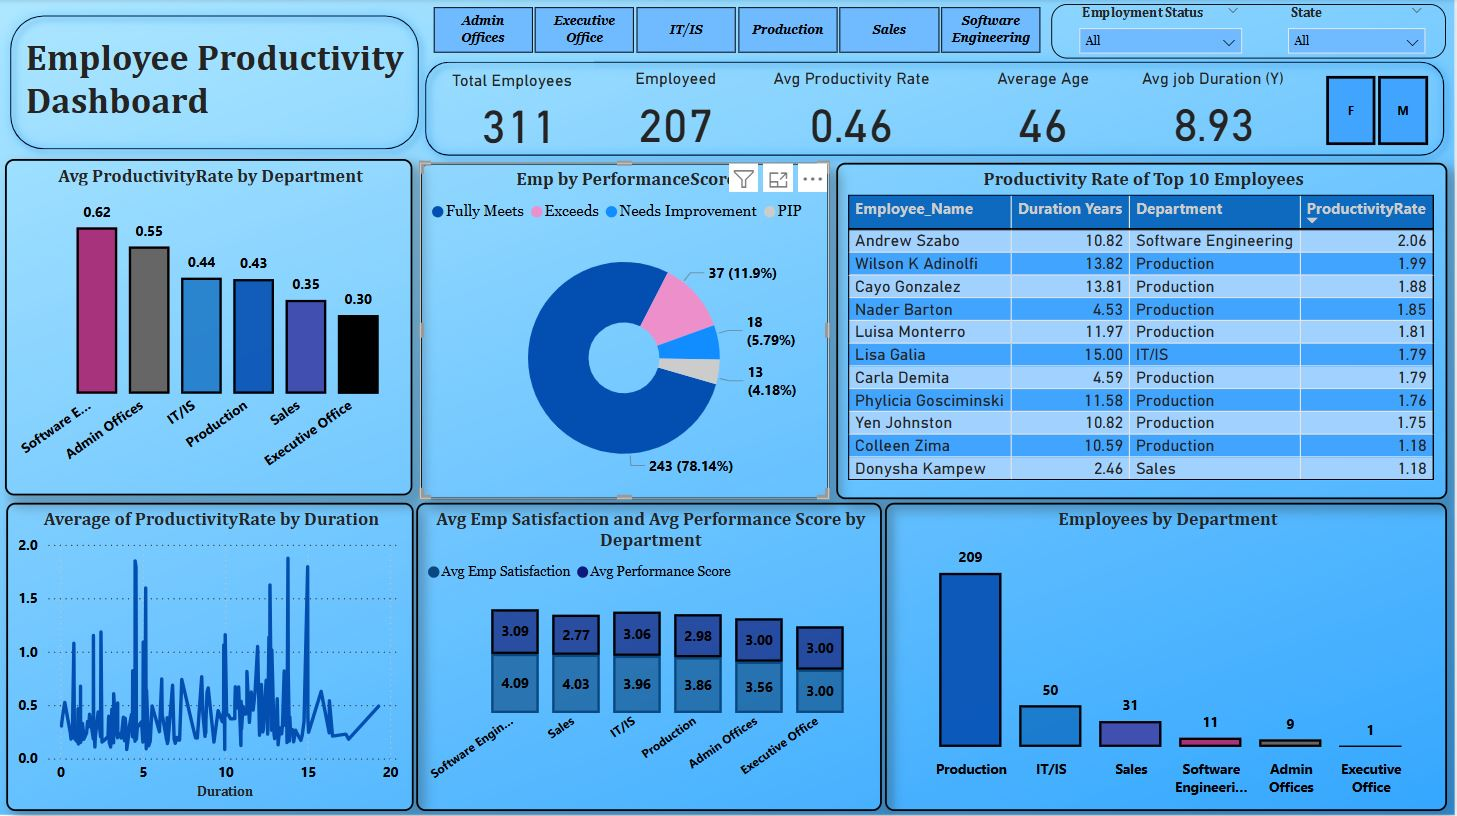

The dashboard page shown, as its layout file describes it:
{"tool":"powerbi","page":{"name":"Page 1","canvas":[1280,720],"ordinal":0},"visuals":[{"type":"shape","box":[924.3,4.9,347.4,47.9],"z":0},{"type":"shape","box":[365.5,46.6,914.5,100.7],"z":1000},{"type":"card","title":"Total Employees","fields":{"Values":["CountNonNull(HR_data_week3_finalsheet.EmpID)"]},"box":[392.6,62.8,128.9,74.9],"z":2000},{"type":"card","title":"Employeed","fields":{"Values":["CountNonNull(HR_data_week3_finalsheet.DateofTermination)"]},"box":[530.5,61.6,128.9,74.9],"z":3000},{"type":"card","title":"Average Age","fields":{"Values":["Avg(HR_data_week3_finalsheet.Age)"]},"box":[853.1,61.6,128.9,74.9],"z":4000},{"type":"card","title":"Avg job Duration (Y)","fields":{"Values":["Avg(HR_data_week3_finalsheet.EmploymentDuration_Years)"]},"box":[999.2,61.6,137.5,74.9],"z":5000},{"type":"slicer","fields":{"Values":["HR_data_week3_finalsheet.Sex"]},"box":[1140.1,60.4,139.9,74.9],"z":6000},{"type":"shape","box":[0,6,377.4,135.7],"z":7000},{"type":"textbox","box":[17.9,27.4,375,101.2],"z":8000},{"type":"tableEx","title":"Productivity Rate of Top 10 Employees","fields":{"Values":["HR_data_week3_finalsheet.Employee_Name","Sum(HR_data_week3_finalsheet.EmploymentDuration_Years)","HR_data_week3_finalsheet.Department","Sum(HR_data_week3_finalsheet.ProductivityRate)"]},"box":[735.3,143.6,537.6,295.8],"z":9000},{"type":"columnChart","title":"Employees by Department","fields":{"Category":["HR_data_week3_finalsheet.Department"],"Y":["CountNonNull(HR_data_week3_finalsheet.EmpID)"]},"box":[778.2,443.1,494.7,271.3],"z":10000},{"type":"card","title":"Avg Productivity Rate","fields":{"Values":["Avg(HR_data_week3_finalsheet.ProductivityRate)"]},"box":[671.4,61.6,154.7,74.9],"z":11000},{"type":"donutChart","title":"Emp by PerformanceScore","fields":{"Y":["CountNonNull(HR_data_week3_finalsheet.EmpID)"],"Category":["HR_data_week3_finalsheet.PerformanceScore"]},"box":[369.5,143.6,359.6,295.8],"z":12000},{"type":"columnChart","title":"Avg ProductivityRate by Department","fields":{"Category":["HR_data_week3_finalsheet.Department"],"Y":["Avg(HR_data_week3_finalsheet.ProductivityRate)"]},"box":[4.9,141.2,358.4,295.8],"z":13000},{"type":"slicer","fields":{"Values":["HR_data_week3_finalsheet.Department"]},"box":[354.7,0,584.3,54],"z":14000},{"type":"slicer","title":"State","fields":{"Values":["HR_data_week3_finalsheet.State"]},"box":[1123.1,0,141.2,55.2],"z":15000},{"type":"slicer","title":"State","fields":{"Values":["HR_data_week3_finalsheet.EmploymentStatus"]},"box":[939,0,163.3,55.2],"z":16000},{"type":"lineChart","fields":{"Y":["Avg(HR_data_week3_finalsheet.ProductivityRate)"],"Category":["HR_data_week3_finalsheet.EmploymentDuration_Years"]},"box":[5,443,358,271],"z":17000},{"type":"columnChart","fields":{"Category":["HR_data_week3_finalsheet.Department"],"Y":["Avg(HR_data_week3_finalsheet.EmpSatisfaction)","Avg(HR_data_week3_finalsheet.PerformanceScoreNum)"]},"box":[366.7,442.9,409.5,271.4],"z":18000}]}

Visuals, with their boxes in screenshot pixels (x1, y1, x2, y2), scaled from the page's 1280x720 canvas onto the 1457x816 screenshot:
shape: region(1052, 6, 1448, 60)
shape: region(416, 53, 1456, 167)
"Total Employees" card: region(447, 71, 594, 156)
"Employeed" card: region(604, 70, 751, 155)
"Average Age" card: region(971, 70, 1118, 155)
"Avg job Duration (Y)" card: region(1137, 70, 1294, 155)
slicer - HR_data_week3_finalsheet.Sex: region(1298, 68, 1456, 153)
shape: region(0, 7, 430, 161)
textbox: region(20, 31, 447, 146)
"Productivity Rate of Top 10 Employees" tableEx: region(837, 163, 1449, 498)
"Employees by Department" columnChart: region(886, 502, 1449, 810)
"Avg Productivity Rate" card: region(764, 70, 940, 155)
"Emp by PerformanceScore" donutChart: region(421, 163, 830, 498)
"Avg ProductivityRate by Department" columnChart: region(6, 160, 414, 495)
slicer - HR_data_week3_finalsheet.Department: region(404, 0, 1069, 61)
"State" slicer: region(1278, 0, 1439, 63)
"State" slicer: region(1069, 0, 1255, 63)
lineChart - Avg(HR_data_week3_finalsheet.ProductivityRate) x HR_data_week3_finalsheet.EmploymentDuration_Years: region(6, 502, 413, 809)
columnChart - HR_data_week3_finalsheet.Department x Avg(HR_data_week3_finalsheet.EmpSatisfaction): region(417, 502, 884, 810)
